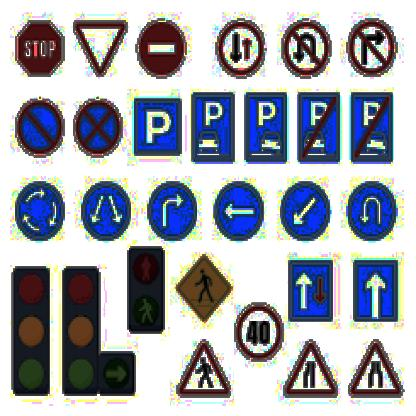Parking: (244, 90, 286, 161), (130, 102, 184, 156), (198, 93, 232, 162)
